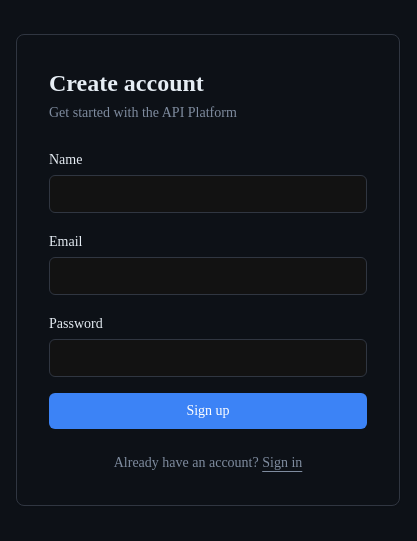
it: RegisterPage › displays an error message on failed sign-up
Type "Alice" into the field labelled "Name".
click(208, 194); type("Alice")  # box [49,175,367,213]
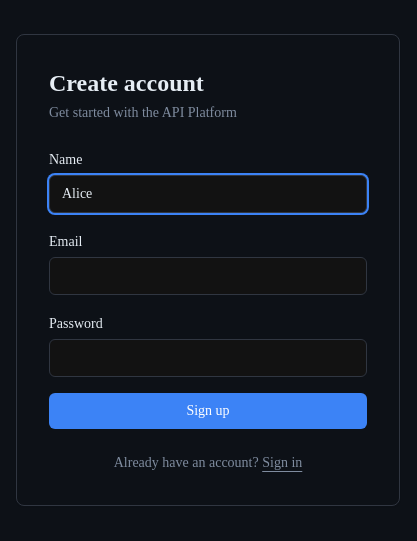
Type "alice@example.com" into the field labelled "Email".
click(208, 276); type("alice@example.com")  # box [49,257,367,295]
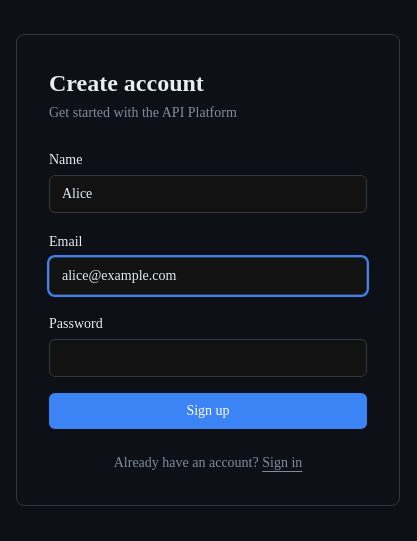
Type "password123" into the password field labelled "Password".
click(208, 358); type("password123")  # box [49,339,367,377]
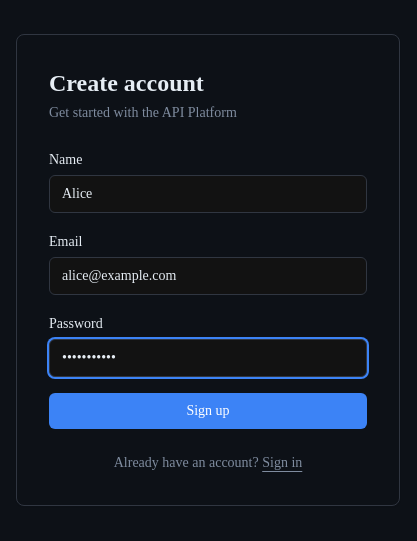
Click the button "Sign up".
click(208, 411)  # box [49,393,367,429]
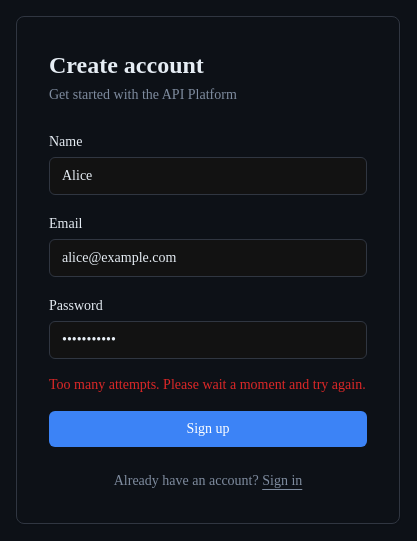
Expected: the text "Too many attempts. Please wait a moment and try again." is shown, [49,375,367,395]
